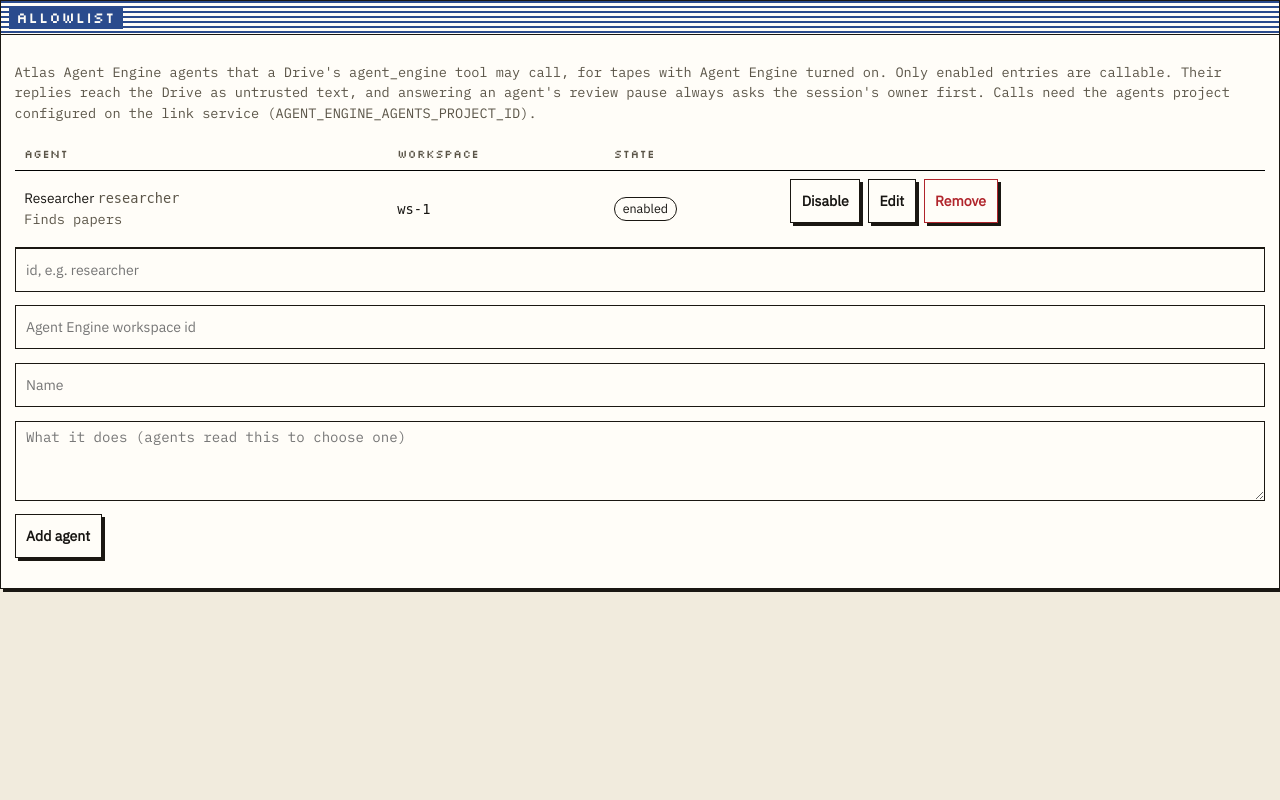
Test: AeAgentsPanel › lists agents and toggles, then removes after a second click
Click the button "Disable": (825, 201) [790,179,860,223]
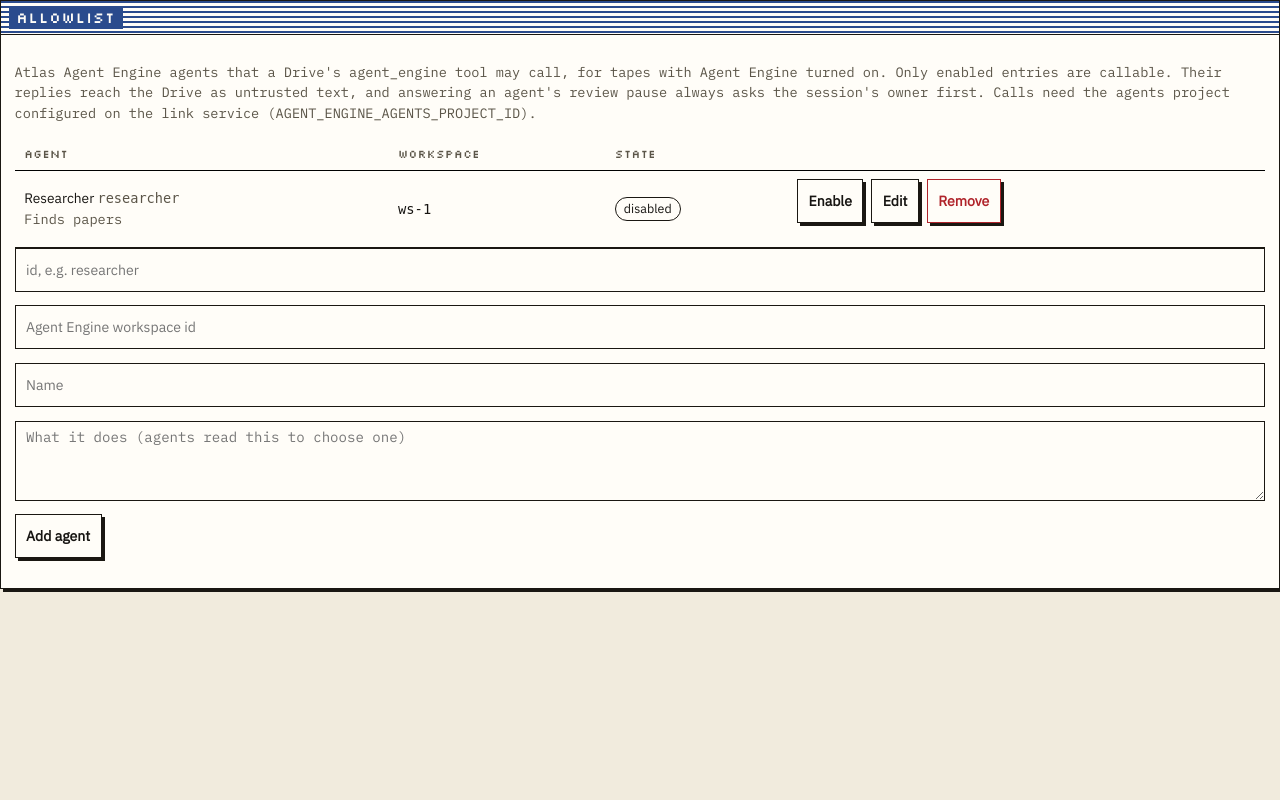
Now the text "disabled" is shown, box [615,197,681,221]
Click the button "Remove": (964, 201) [927,179,1001,223]
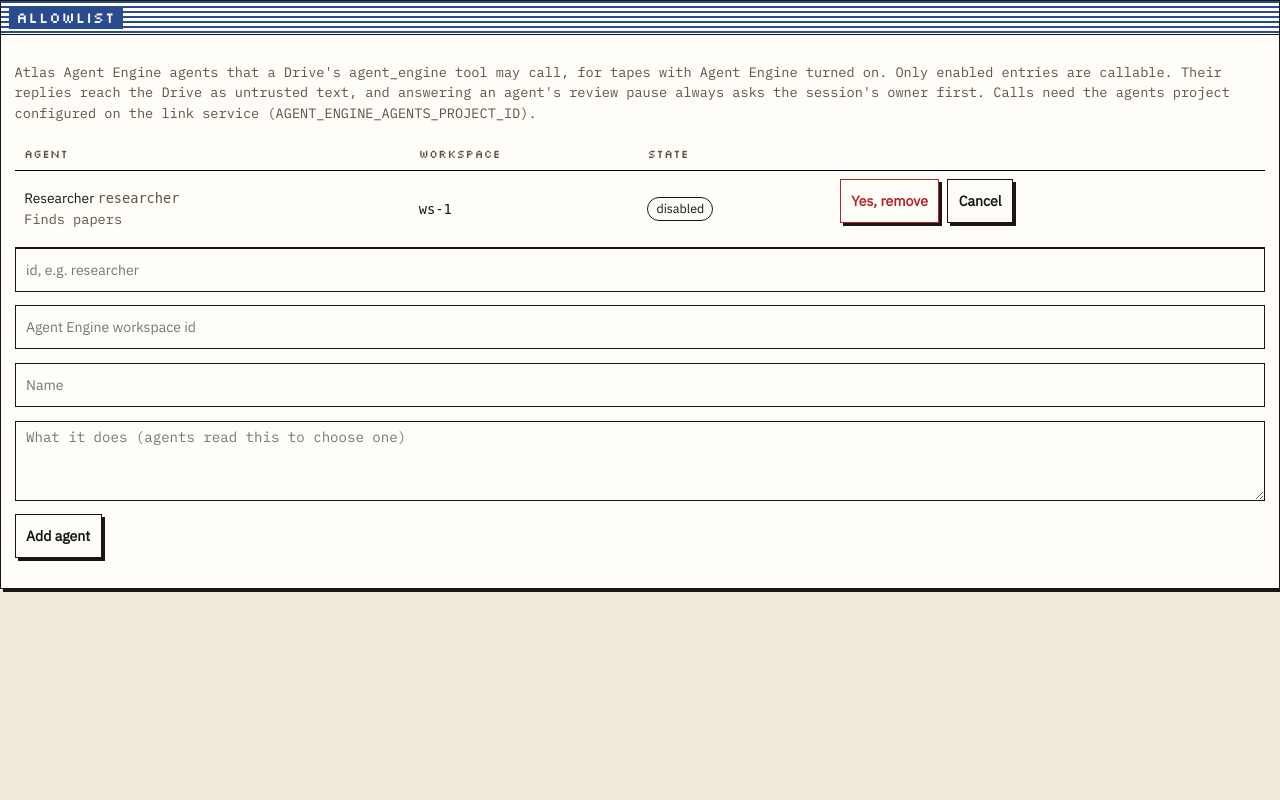
Click the button "Yes, remove": (889, 201) [840,179,939,223]
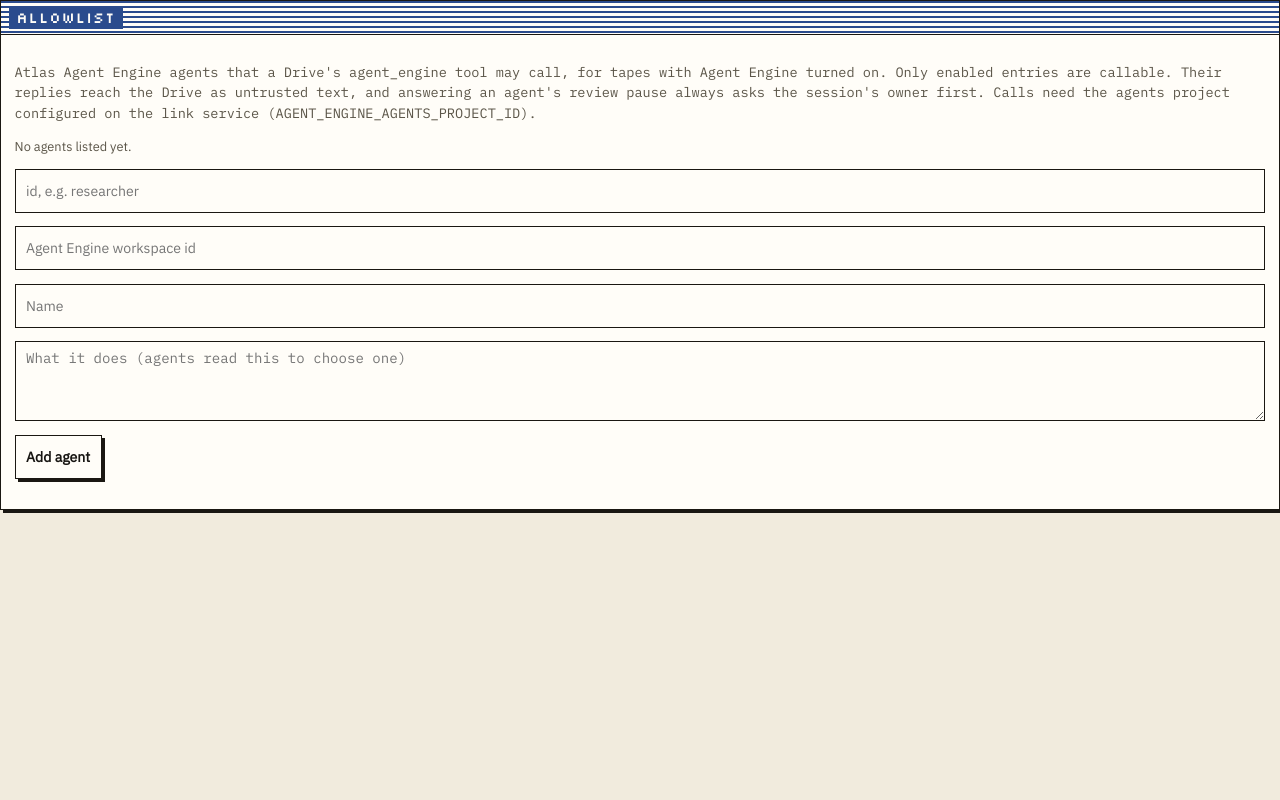
Now the text "No agents listed yet." is shown, box [15,138,131,155]
